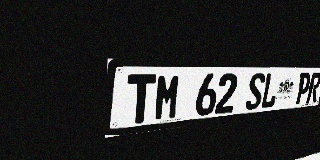2: (215, 73, 238, 114)
6: (194, 73, 220, 117)
L: (260, 73, 280, 109)
M: (153, 74, 182, 121)
P: (294, 72, 312, 105)
R: (306, 72, 320, 103)
S: (244, 73, 266, 111)
T: (126, 74, 156, 125)
